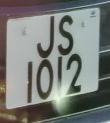0: (33, 57, 59, 103)
1: (22, 57, 37, 106), (54, 52, 67, 102)
2: (63, 52, 84, 96)
J: (32, 12, 58, 61)
S: (56, 10, 76, 59)
